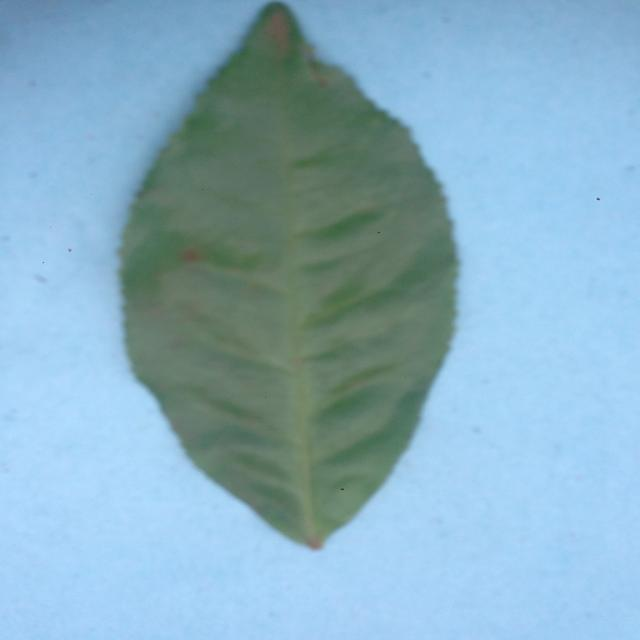Healthy: (70, 0, 520, 594)
